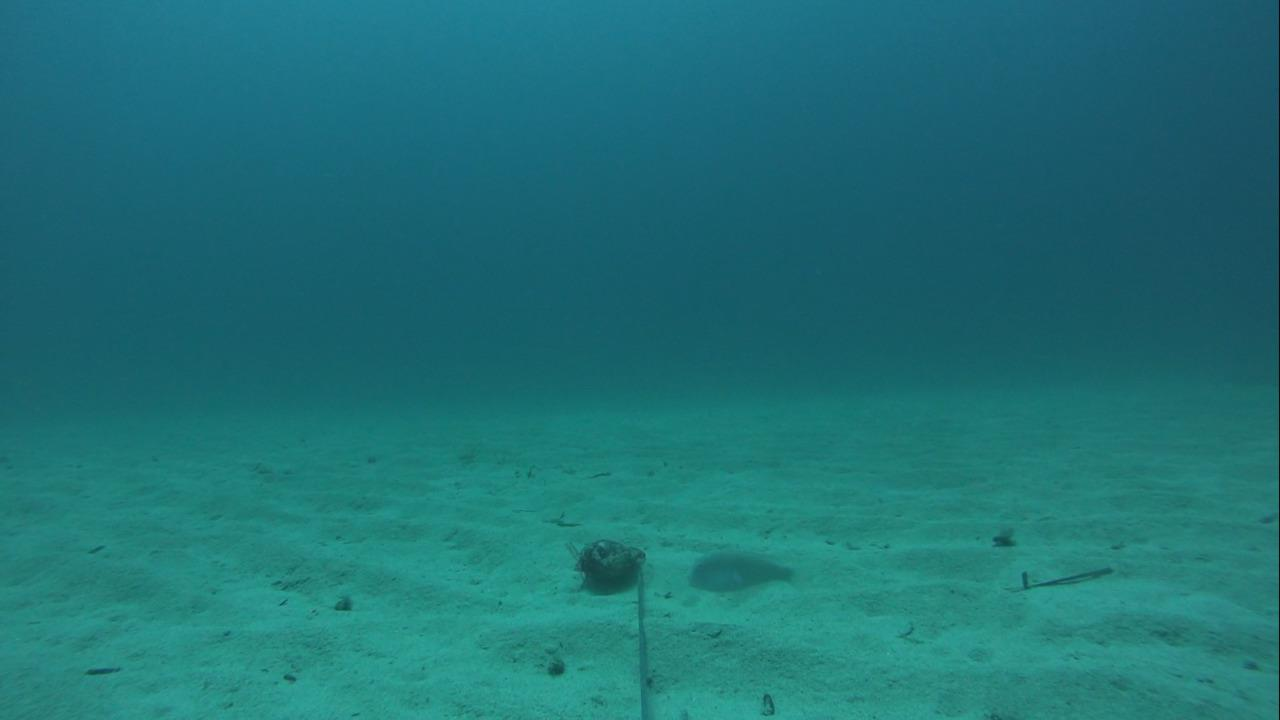raor: (681, 545, 808, 597)
